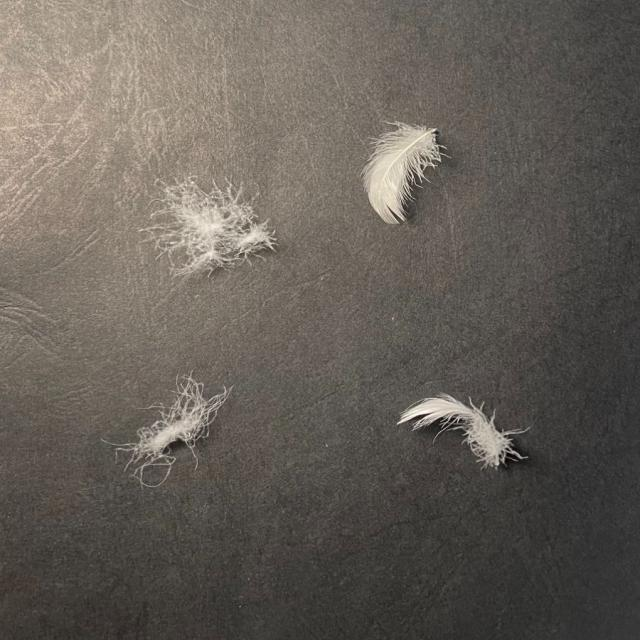feather: (95, 368, 237, 486), (132, 171, 276, 280), (397, 390, 532, 474), (353, 118, 449, 224)
